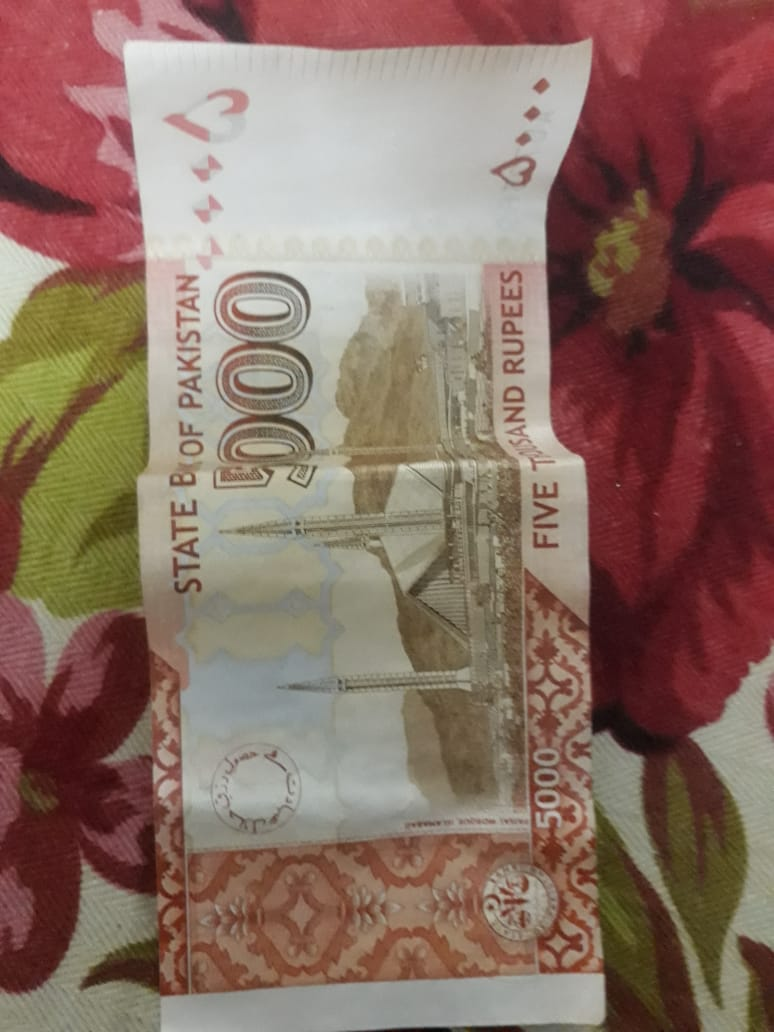5000 rupee: (97, 29, 661, 1023)
